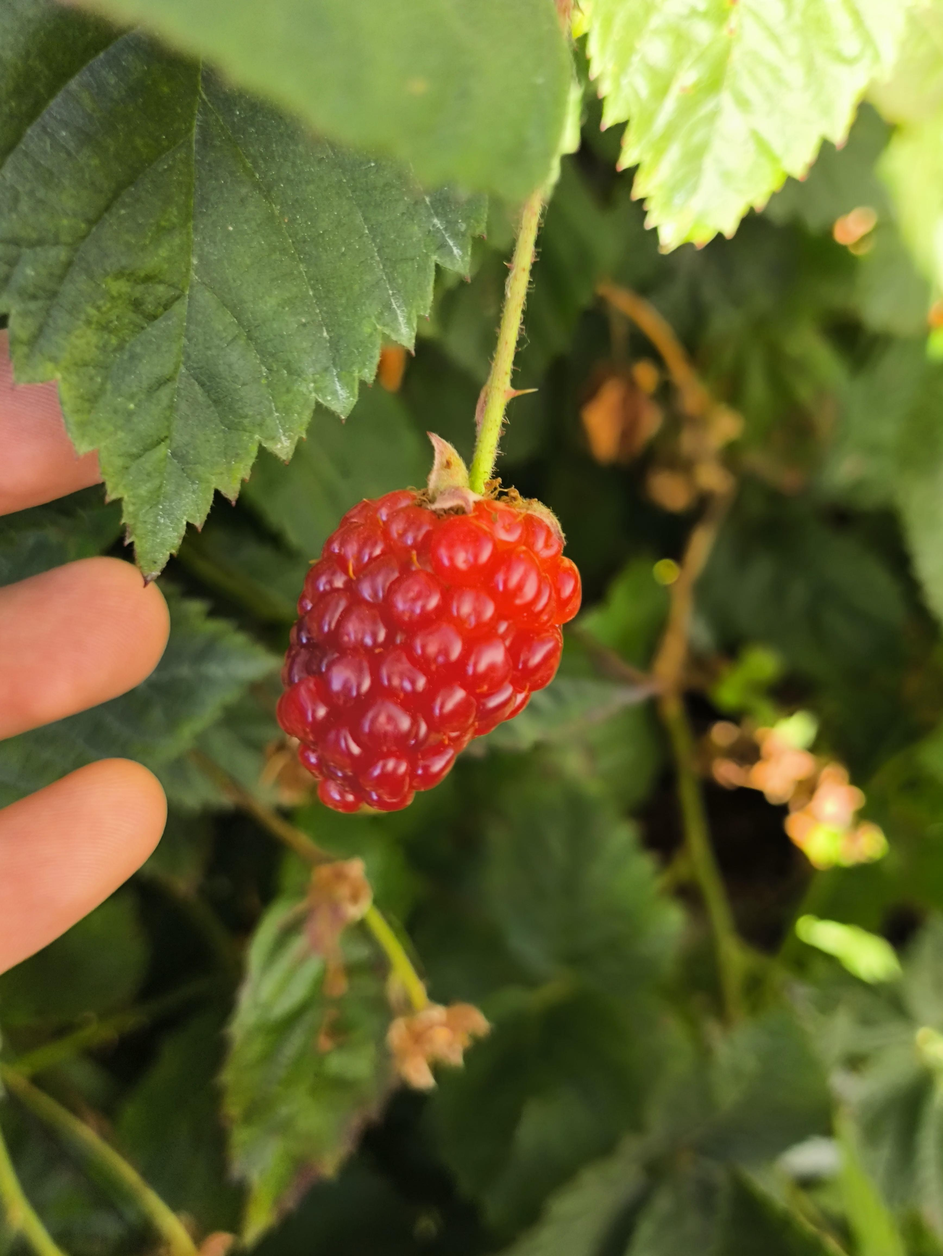naranja: (278, 485, 577, 816)
